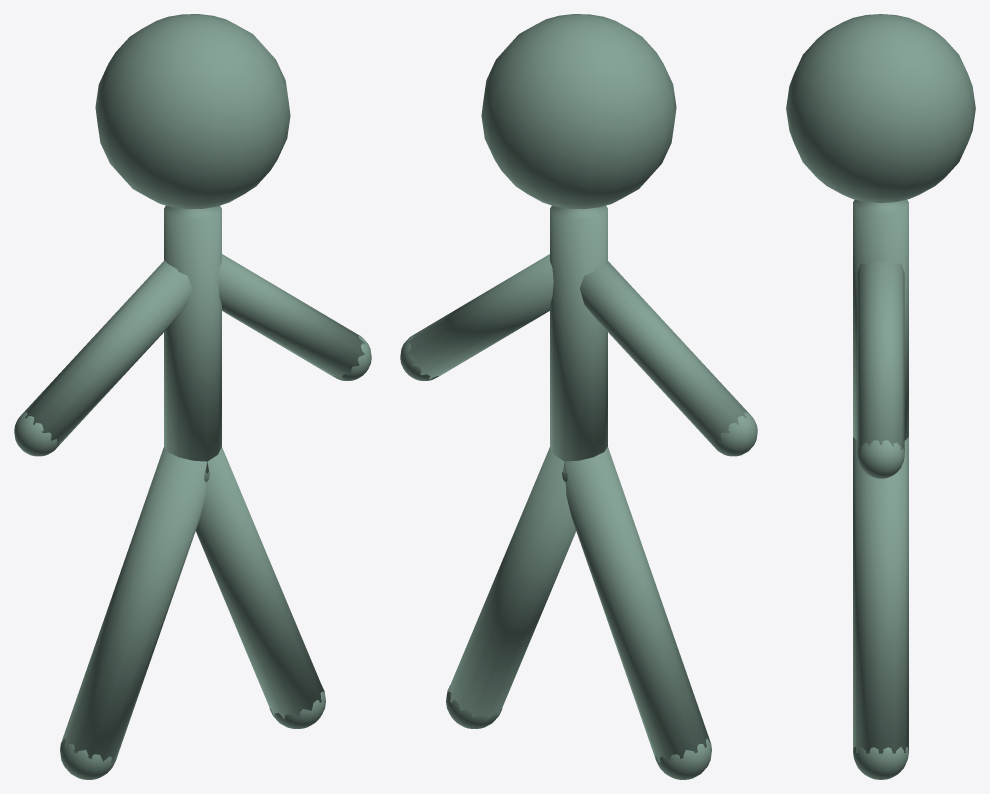
Rendered from stick.glb.
3 renders of one model, left to right at view 1: azimuth 30°, elevation 25°; view 2: azimuth 150°, elevation 25°; view 3: azimuth 270°, elevation 25°, orthographic. The views are drawn at different scales.
Parts seen in each view (by area): view 1: head, left-leg, right-leg, body, left-arm, right-arm, left-leg-end, left-arm-end, right-leg-end; view 2: head, left-leg, right-leg, body, left-arm, right-arm, left-leg-end, left-arm-end, right-leg-end; view 3: head, right-leg, right-arm, body, right-arm-end, right-leg-end.
Part boxes in pixels (x1,y1,x2,y2): head: (95, 14, 290, 209); left-leg: (61, 447, 207, 762); right-leg: (196, 447, 324, 718); body: (164, 205, 221, 473); left-arm: (21, 260, 191, 446); right-arm: (218, 254, 364, 378); left-leg-end: (60, 738, 116, 779); left-arm-end: (14, 412, 59, 456); right-leg-end: (269, 686, 325, 728); head: (481, 14, 676, 209); left-leg: (564, 447, 710, 762); right-leg: (447, 447, 575, 718); body: (550, 205, 607, 473); left-arm: (580, 260, 750, 446); right-arm: (407, 254, 553, 378); left-leg-end: (655, 738, 711, 779); left-arm-end: (712, 412, 757, 456); right-leg-end: (446, 686, 502, 728); head: (786, 14, 975, 202); right-leg: (853, 437, 908, 753); right-arm: (857, 261, 904, 453); body: (853, 199, 908, 440); right-arm-end: (857, 440, 904, 478); right-leg-end: (853, 747, 908, 779).
Size of the model in its own units: 0.91 by 1.81 by 0.44.
